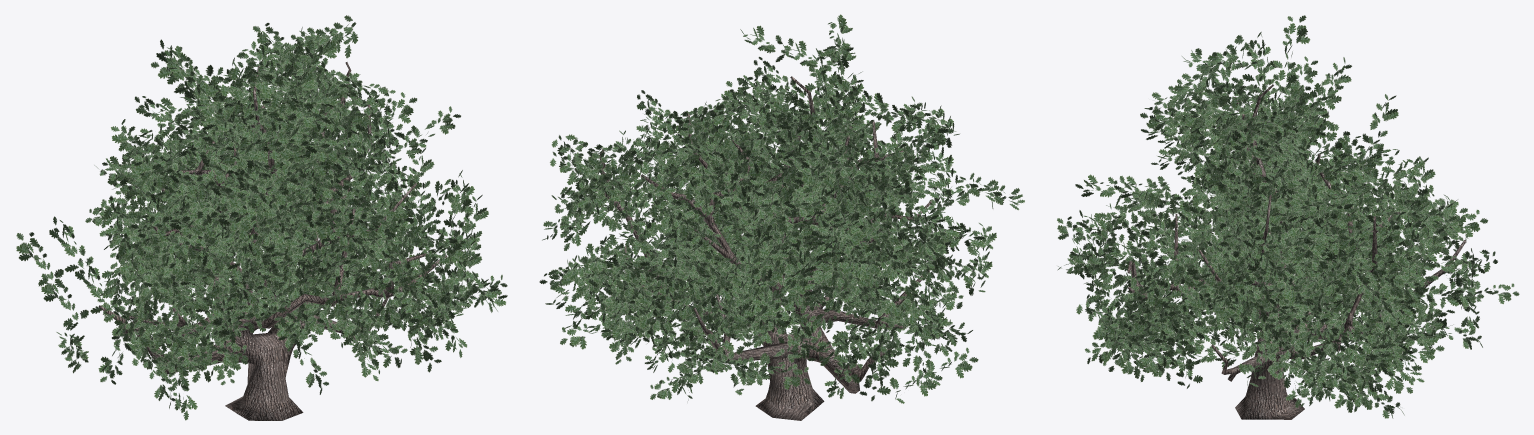
Rendered from dob_koncni_siv_foto.gltf.
3 views of the same model, side by side, from view 1: azimuth 30°, elevation 25°; view 2: azimuth 150°, elevation 25°; view 3: azimuth 270°, elevation 25° (orthographic). The views are drawn at different scales.
Visible parts, largest first — view 1: og_deblo_veje, dob_list_real.001, dob_list_real.121, dob_list_real.262, dob_list_real.191, dob_list_real.300, dob_list_real.127, dob_list_real.328, dob_list_real.239, dob_list_real.337, dob_list_real.263, dob_list_real.370 (+103 smaller); view 2: og_deblo_veje, dob_list_real.366, dob_list_real.259, dob_list_real.130, dob_list_real.347, dob_list_real.103, dob_list_real.350, dob_list_real.233, dob_list_real.328, dob_list_real.345, dob_list_real.219, dob_list_real.173 (+121 smaller); view 3: og_deblo_veje, dob_list_real.413, dob_list_real.262, dob_list_real.178, dob_list_real.261, dob_list_real.137, dob_list_real.300, dob_list_real.115, dob_list_real.019, dob_list_real.399, dob_list_real.063, dob_list_real.124 (+123 smaller).
Boxes of the visible parts, bbox=[...] form: og_deblo_veje: bbox=[98, 62, 447, 420]; dob_list_real.001: bbox=[148, 207, 256, 242]; dob_list_real.121: bbox=[16, 232, 88, 326]; dob_list_real.262: bbox=[156, 39, 230, 130]; dob_list_real.191: bbox=[306, 207, 404, 239]; dob_list_real.300: bbox=[230, 52, 325, 127]; dob_list_real.127: bbox=[240, 131, 346, 162]; dob_list_real.328: bbox=[204, 122, 310, 173]; dob_list_real.239: bbox=[153, 160, 246, 207]; dob_list_real.337: bbox=[100, 195, 150, 283]; dob_list_real.263: bbox=[49, 216, 118, 313]; dob_list_real.370: bbox=[388, 218, 421, 319]; og_deblo_veje: bbox=[599, 76, 932, 420]; dob_list_real.366: bbox=[839, 231, 917, 324]; dob_list_real.259: bbox=[678, 172, 756, 239]; dob_list_real.130: bbox=[865, 231, 931, 320]; dob_list_real.347: bbox=[707, 260, 782, 350]; dob_list_real.103: bbox=[643, 191, 721, 249]; dob_list_real.350: bbox=[740, 25, 835, 74]; dob_list_real.233: bbox=[889, 347, 978, 403]; dob_list_real.328: bbox=[816, 74, 912, 131]; dob_list_real.345: bbox=[731, 192, 822, 218]; dob_list_real.219: bbox=[811, 245, 864, 338]; dob_list_real.173: bbox=[647, 308, 692, 400]; og_deblo_veje: bbox=[1127, 84, 1466, 419]; dob_list_real.413: bbox=[1325, 320, 1415, 393]; dob_list_real.262: bbox=[1260, 15, 1310, 119]; dob_list_real.178: bbox=[1339, 244, 1435, 303]; dob_list_real.261: bbox=[1076, 294, 1152, 381]; dob_list_real.137: bbox=[1288, 215, 1382, 261]; dob_list_real.300: bbox=[1166, 35, 1253, 109]; dob_list_real.115: bbox=[1133, 257, 1197, 341]; dob_list_real.019: bbox=[1354, 183, 1428, 270]; dob_list_real.399: bbox=[1296, 345, 1384, 409]; dob_list_real.063: bbox=[1358, 301, 1454, 370]; dob_list_real.124: bbox=[1173, 94, 1264, 129].
Bounding box in the file's own units: 16.2 × 14.76 × 17.32.
Materials: 2 (2 with a texture image).
